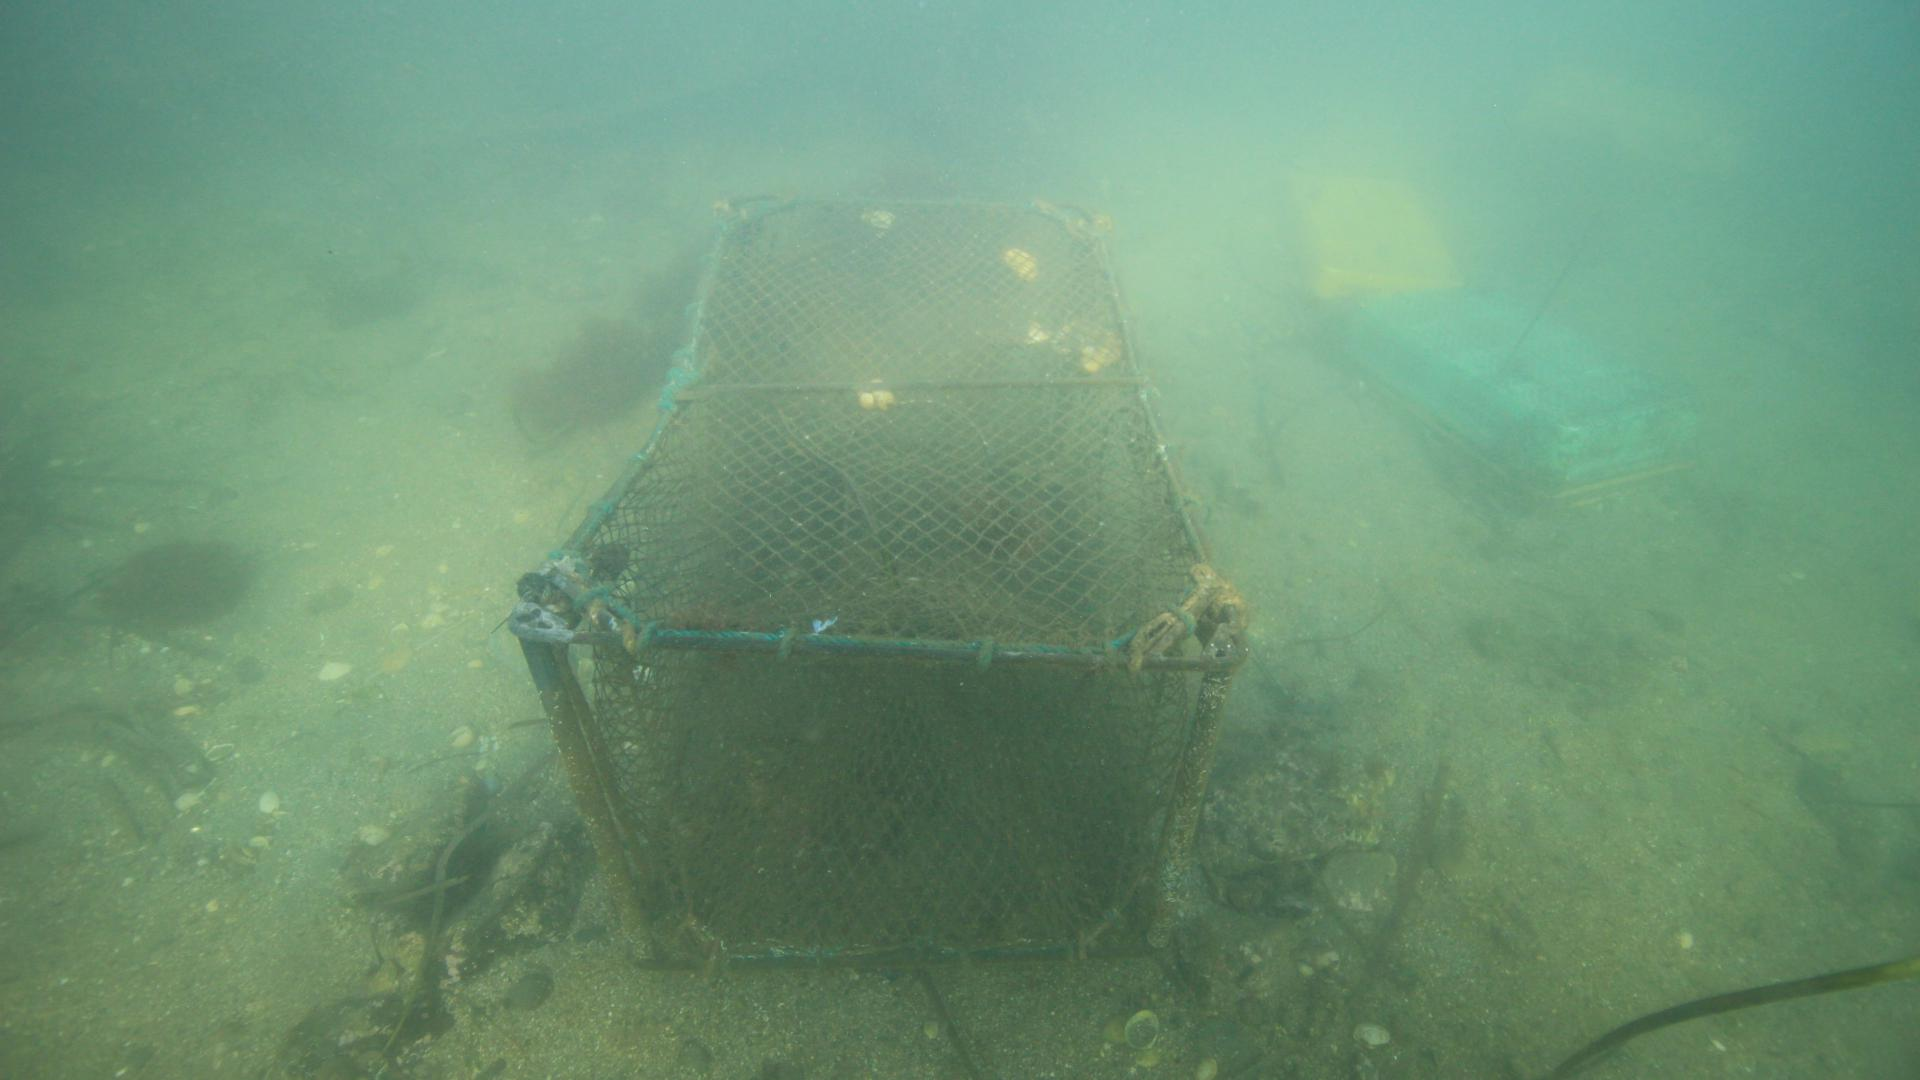rectangular fish trap: (505, 191, 1247, 976)
